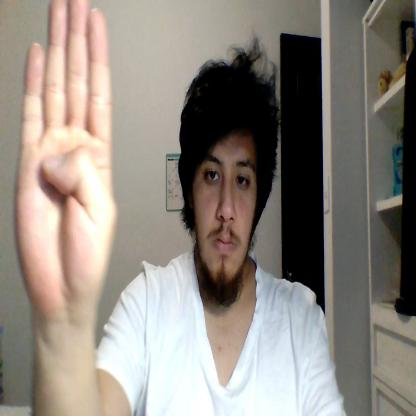B: (14, 0, 119, 309)
